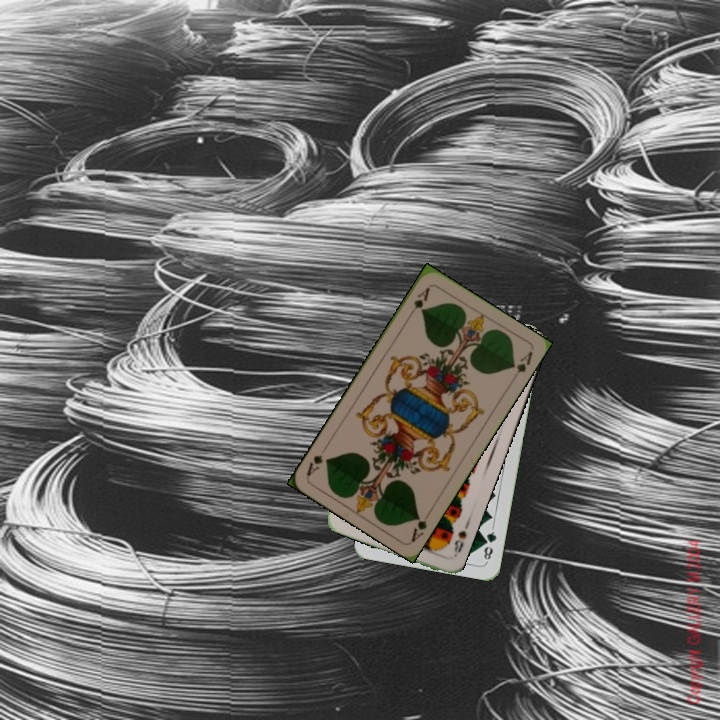G8: (480, 524, 499, 564)
GA: (405, 283, 433, 319), (407, 511, 429, 544)
S8: (450, 526, 469, 560)
